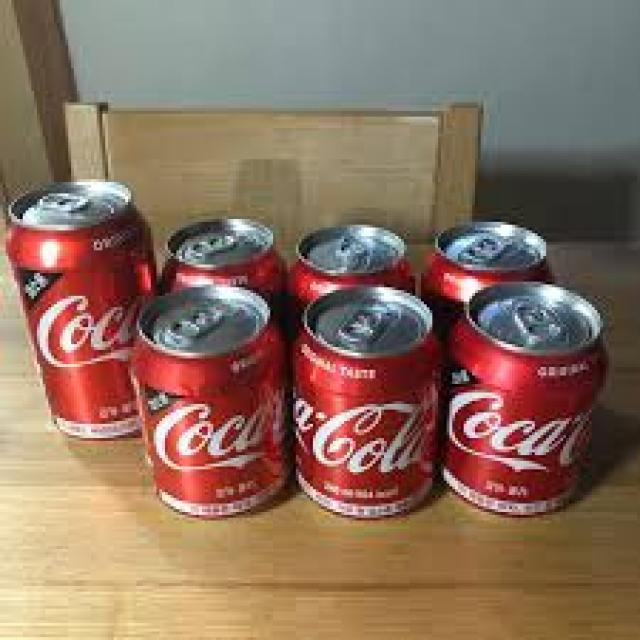coca-cola: (6, 181, 152, 443), (132, 288, 290, 524), (288, 294, 446, 522), (447, 298, 611, 516)
